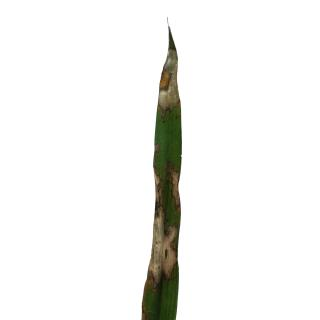Hawar-Daun: (144, 25, 188, 320), (151, 164, 185, 278), (154, 14, 186, 114)
